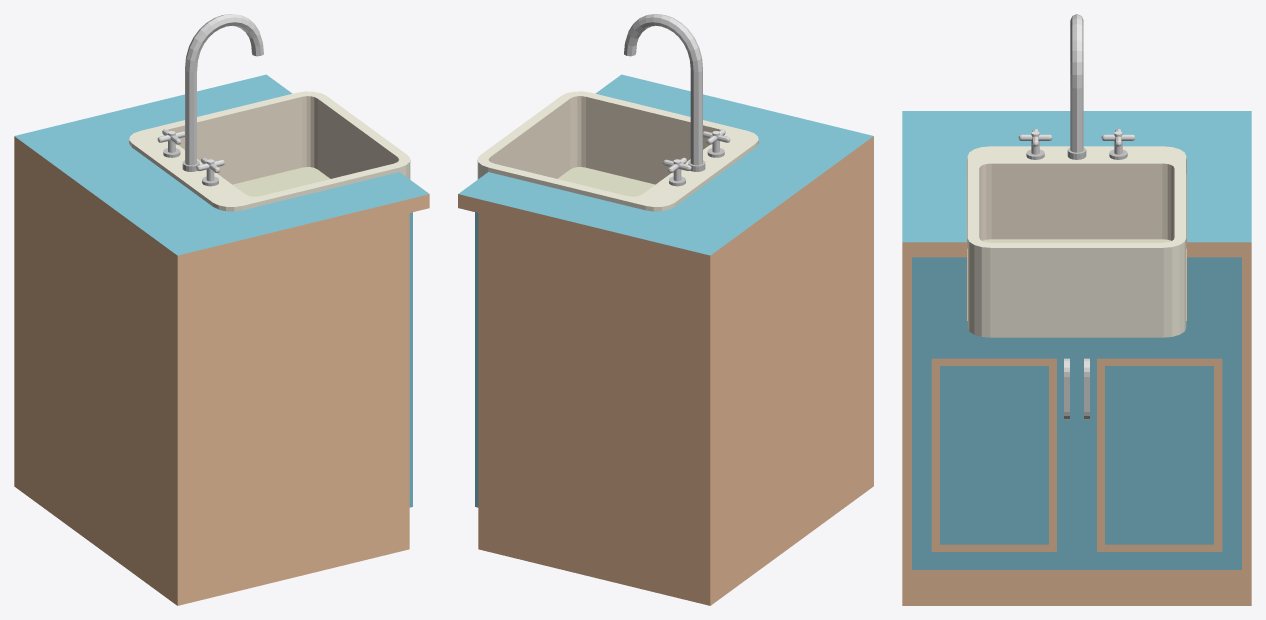
Rendered from Cabinet Sink Unit.fbx.
3 views of the same model, side by side, from view 1: azimuth 30°, elevation 25°; view 2: azimuth 150°, elevation 25°; view 3: azimuth 270°, elevation 25° (orthographic). The views are drawn at different scales.
Visible parts, largest first — view 1: Cabinet Sink Unit, Counter Segment Sink, Sink, Cabinet Floor Unit Door.L.003; view 2: Cabinet Sink Unit, Counter Segment Sink, Sink, Cabinet Floor Unit Door.R.003; view 3: Sink, Cabinet Floor Unit Door.R.003, Cabinet Floor Unit Door.L.003, Cabinet Sink Unit, Counter Segment Sink.
Part boxes in pixels (x1,y1,x2,y2): Cabinet Sink Unit: (14,150,412,605); Counter Segment Sink: (14,74,429,269); Sink: (129,14,410,211); Cabinet Floor Unit Door.L.003: (409,292,412,507); Cabinet Sink Unit: (475,150,873,605); Counter Segment Sink: (458,74,873,269); Sink: (477,14,758,211); Cabinet Floor Unit Door.R.003: (475,292,478,507); Sink: (967,14,1186,337); Cabinet Floor Unit Door.R.003: (1077,340,1241,569); Cabinet Floor Unit Door.L.003: (912,340,1076,569); Cabinet Sink Unit: (902,174,1251,605); Counter Segment Sink: (902,111,1251,257).
Bounding box in the file's own units: 0.7721 × 1.36 × 0.8052.
